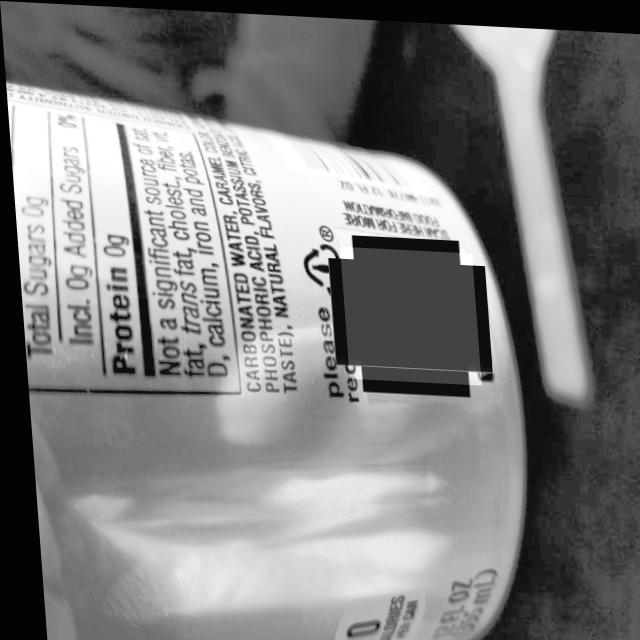qr_code: (336, 242, 476, 380)
